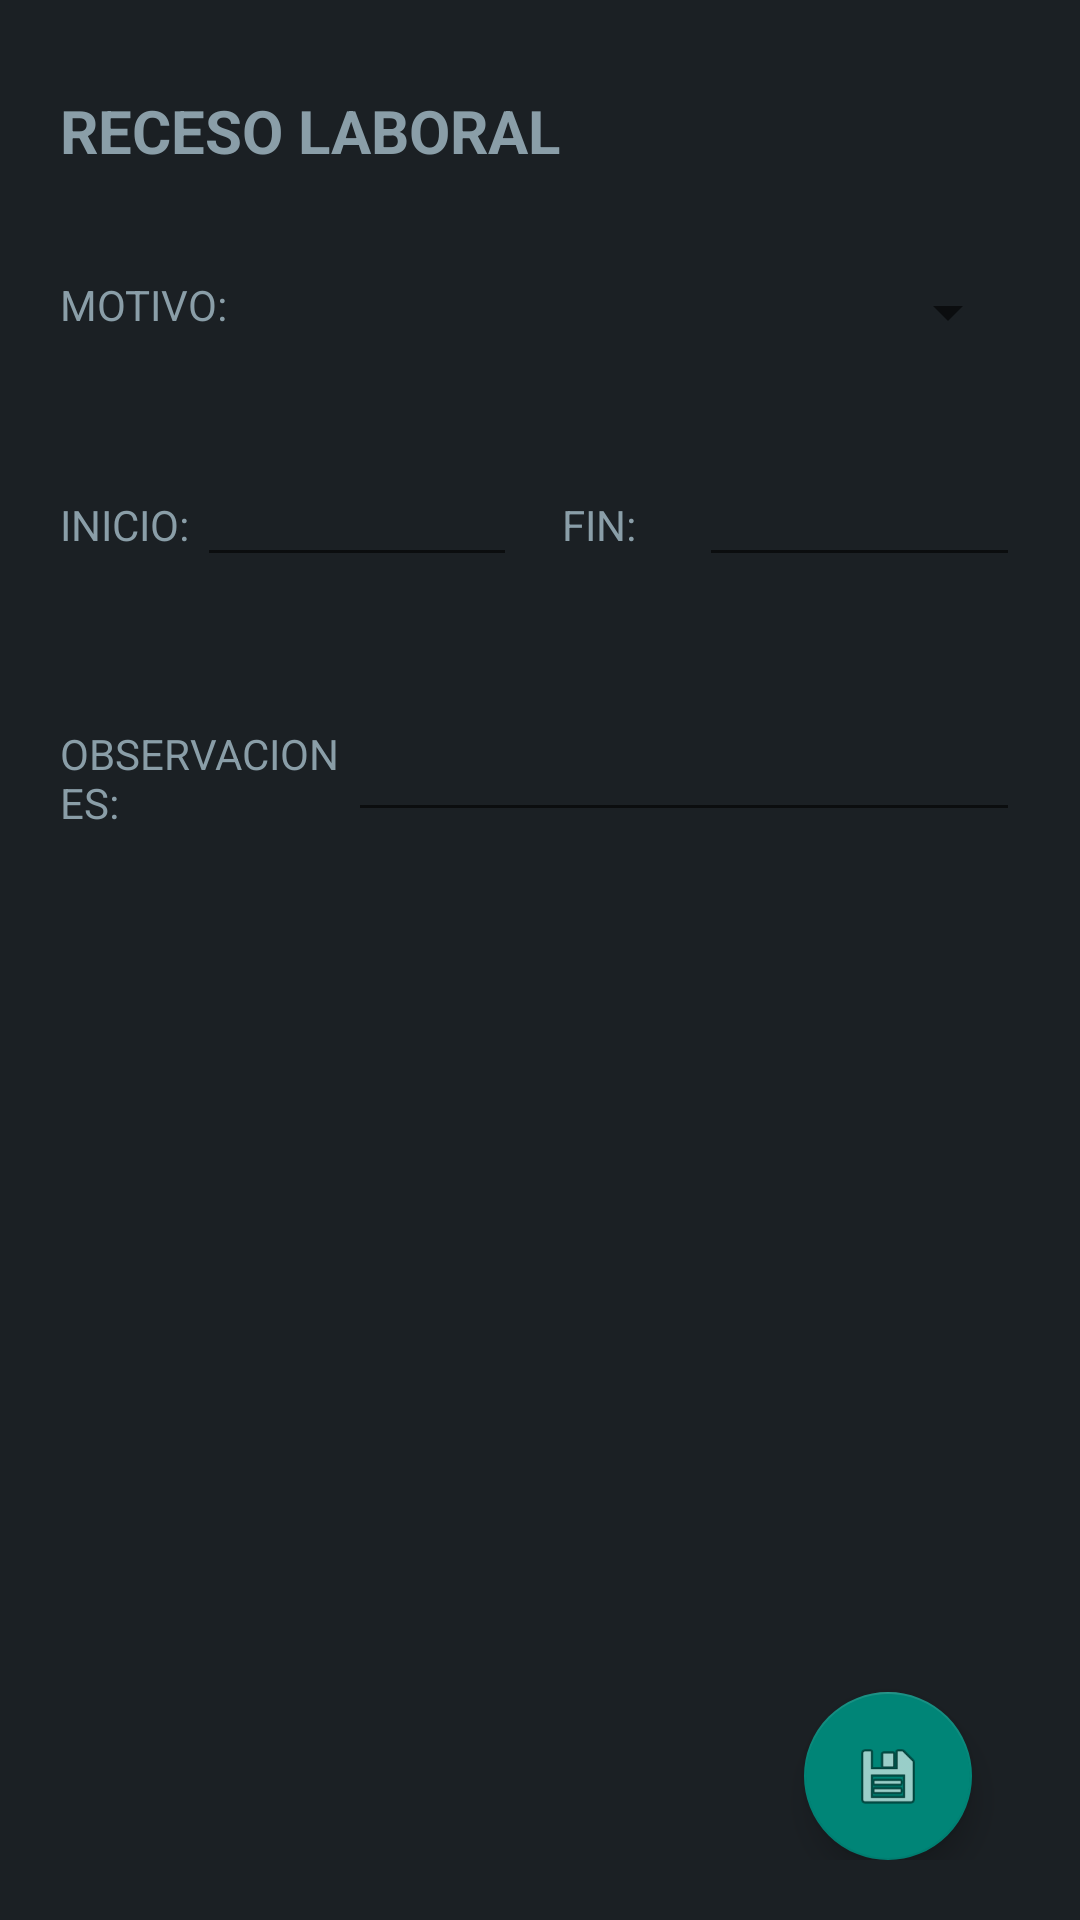

Icons on this 1080w x 1920h Android screen, each with the point to tap as [x,y]:
save: [888,1776]
